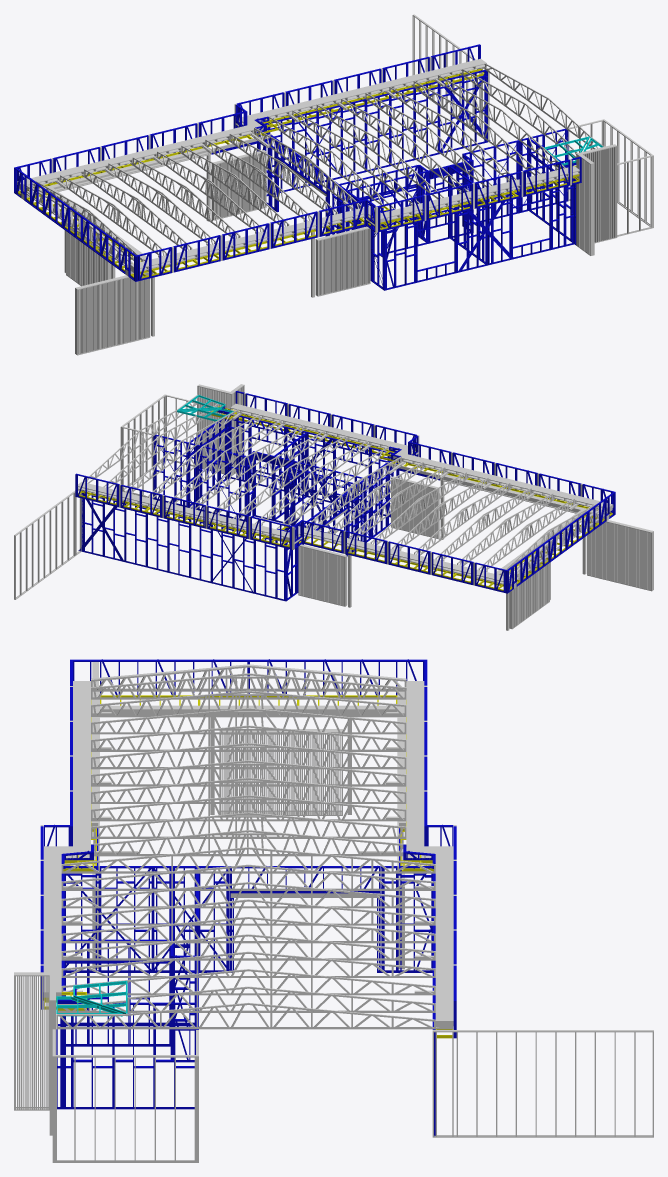
File: dxb_porte_cochere.glb
3 views of the same model, one above another, from view 1: azimuth 30°, elevation 25°; view 2: azimuth 150°, elevation 25°; view 3: azimuth 270°, elevation 25° (orthographic). The views are drawn at different scales.
Parts seen in each view (by area): view 1: n1, RT1, W1, W2, n3, C1; view 2: n1, RT1, W1, W2, n3, C1, R1; view 3: RT1, n1, W1, n3, W2, C1, R1.
Boxes of the visible parts, bbox=[...] form: n1: bbox=[21, 14, 653, 355]; RT1: bbox=[19, 63, 604, 272]; W1: bbox=[257, 70, 576, 290]; W2: bbox=[14, 44, 581, 281]; n3: bbox=[17, 58, 579, 271]; C1: bbox=[18, 68, 579, 278]; n1: bbox=[14, 384, 653, 630]; RT1: bbox=[78, 394, 612, 583]; W1: bbox=[78, 415, 399, 601]; W2: bbox=[75, 391, 615, 593]; n3: bbox=[78, 403, 613, 584]; C1: bbox=[78, 406, 612, 590]; R1: bbox=[177, 395, 233, 421]; RT1: bbox=[56, 664, 453, 1029]; n1: bbox=[14, 662, 653, 1162]; W1: bbox=[56, 865, 435, 1136]; n3: bbox=[43, 681, 453, 1026]; W2: bbox=[40, 659, 456, 1038]; C1: bbox=[43, 695, 453, 1038]; R1: bbox=[56, 980, 127, 1016].
Size of the model in its own units: 27845 by 4368 by 18639.
